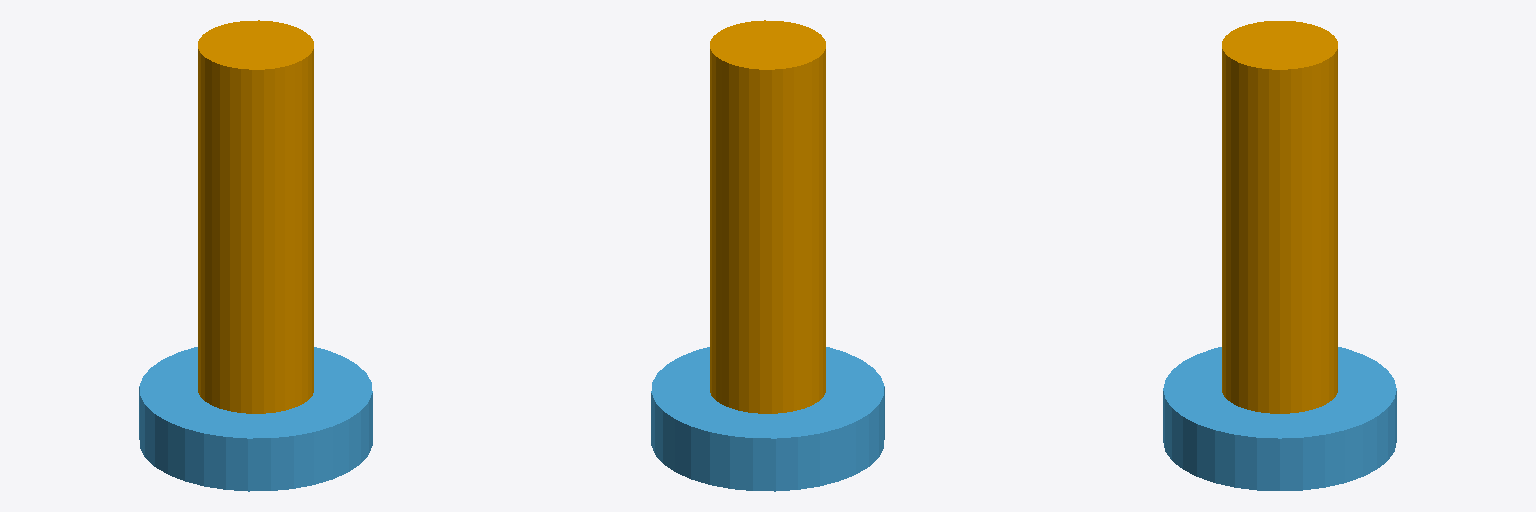
The robot description file, URDF, robot "peg.urdf":
<?xml version="1.0" ?>
<robot name="peg.urdf">
	<link name="base">
		<inertial>
			<origin rpy="0 0 0" xyz="0 0 0"/>
			<mass value="1"/>
			<inertia ixx="3e-3" ixy="0" ixz="0" iyy="3e-3" iyz="0" izz="3e-3"/>
		</inertial>
		<visual>
			<origin rpy="0 0 0" xyz="0 0 0"/>
			<geometry>
				<cylinder radius="0.01" length="0.07"/>
			</geometry>
		</visual>
		<collision>
			<origin rpy="0 0 0" xyz="0 0 0"/>
			<geometry>
				<cylinder radius="0.01" length="0.07"/>
			</geometry>
		</collision>
	</link>
	<joint name="joint" type="fixed">
		<origin rpy="0 0 0" xyz="0 0 -0.035"/>
		<parent link="base" />
		<child link="link1" />
		<axis xyz="0 0 0" />
	</joint>
	<link name="link1">
		<inertial>
			<origin rpy="0 0 0" xyz="0 0 0"/>
				<mass value="0.01"/>
				<inertia ixx="3e-3" ixy="0" ixz="0" iyy="3e-3" iyz="0" izz="3e-3"/>
		</inertial>
		<visual>
			<origin rpy="0 0 0" xyz="0 0 0"/>
			<geometry>
				<cylinder radius="0.02" length="0.01"/>
			</geometry>
		</visual>
		<collision>
			<origin rpy="0 0 0" xyz="0 0 0"/>
			<geometry>
				<cylinder radius="0.02" length="0.01"/>
			</geometry>
		</collision>
	</link>
</robot>

--- What the picture shows (computed from the rendered views, not written in the file) ---
Views: 3 orthographic renders of the robot side by side, from view 1: azimuth 30°, elevation 25°; view 2: azimuth 150°, elevation 25°; view 3: azimuth 270°, elevation 25°.
Model peg.urdf with 2 links and 1 joints (1 fixed), rooted at base, posed every joint at zero.
Visible links, largest first — view 1: base, link1; view 2: base, link1; view 3: base, link1.
Boxes of the visible links, x1,y1,x2,y2 form: base: (198, 20, 313, 413); link1: (139, 347, 372, 491); base: (710, 20, 825, 413); link1: (651, 347, 884, 491); base: (1222, 21, 1337, 413); link1: (1163, 347, 1396, 490).
Size in the robot's own frame: 0.04 by 0.04 by 0.075 metres.
Geometry: primitives only (box / cylinder / sphere), no mesh files.